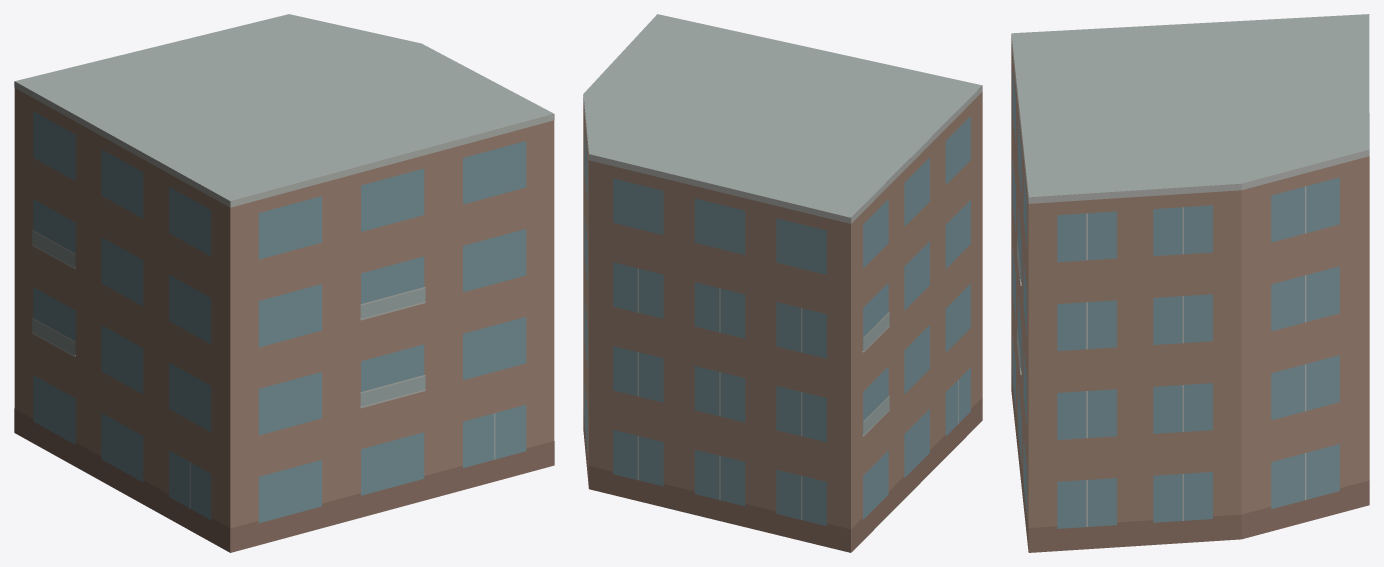
Rendered from survey-upis-32735483.glb.
3 views of the same model, side by side, from view 1: azimuth 30°, elevation 25°; view 2: azimuth 150°, elevation 25°; view 3: azimuth 270°, elevation 25° (orthographic). The views are drawn at different scales.
Parts seen in each view (by area): view 1: survey-upis-32735483.tmp; view 2: survey-upis-32735483.tmp; view 3: survey-upis-32735483.tmp.
Part boxes in pixels (bbox=[...]): survey-upis-32735483.tmp: bbox=[14, 14, 554, 552]; survey-upis-32735483.tmp: bbox=[583, 14, 982, 552]; survey-upis-32735483.tmp: bbox=[1011, 14, 1369, 552].
Bounding box in the file's own units: 14.66 × 13.25 × 12.11.
